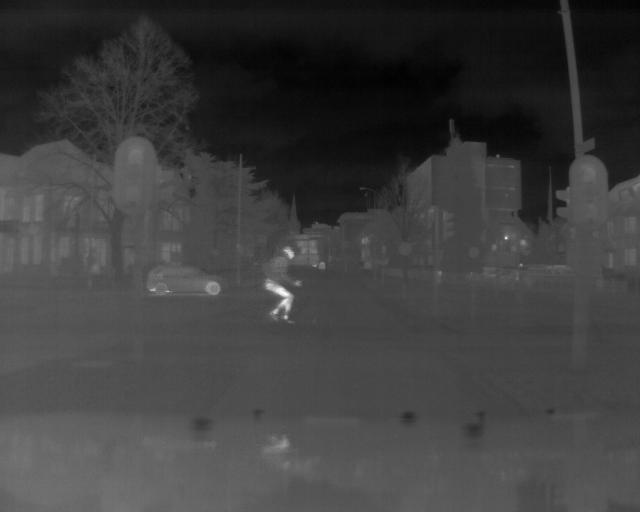car: (142, 261, 226, 300)
person: (262, 242, 305, 329)
